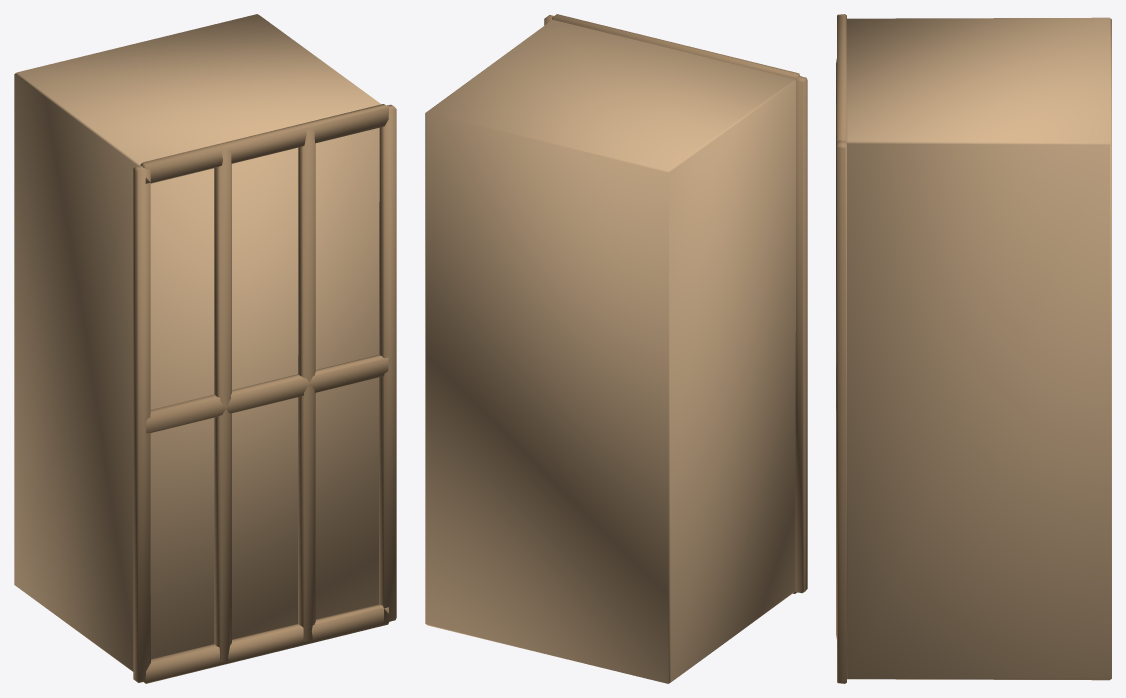
Rendered from struct_wall_tall.glb.
3 views of the same model, side by side, from view 1: azimuth 30°, elevation 25°; view 2: azimuth 150°, elevation 25°; view 3: azimuth 270°, elevation 25° (orthographic). The views are drawn at different scales.
Parts seen in each view (by area): view 1: struct_wall_tall; view 2: struct_wall_tall; view 3: struct_wall_tall.
Part boxes in pixels (left/top/right/bottom): struct_wall_tall: left=14, top=14, right=396, bottom=683; struct_wall_tall: left=425, top=14, right=807, bottom=683; struct_wall_tall: left=836, top=14, right=1111, bottom=683.
Size of the model in its own units: 1.06 by 2.02 by 0.9273.
